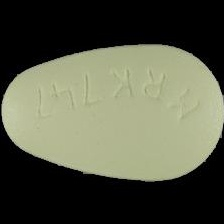55289-522: (0, 0, 224, 224)
